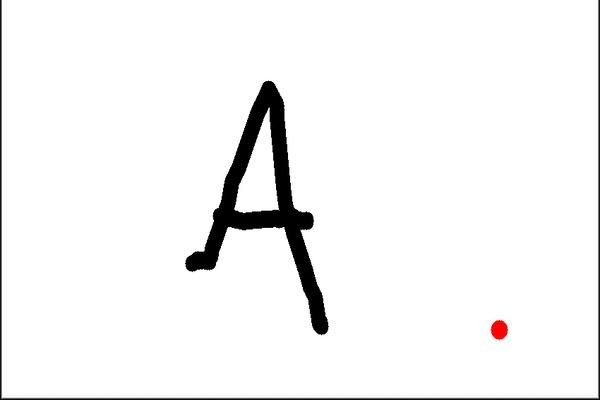A: (174, 77, 341, 338)
